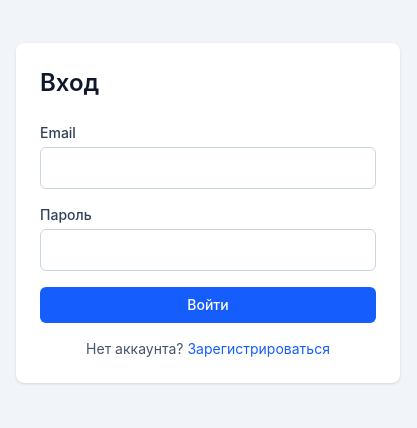
it: Frontend › 38. Frontend показывает ошибку неверного входа
This screenshot has width=417, height=428.
In the field labelled "Email": (208,168) 40,147 -> 376,189, type "user@example.com"
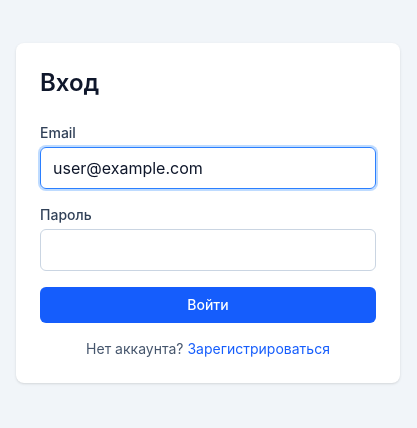
In the password field labelled "Пароль": (208,250) 40,229 -> 376,271, type "wrong-password"
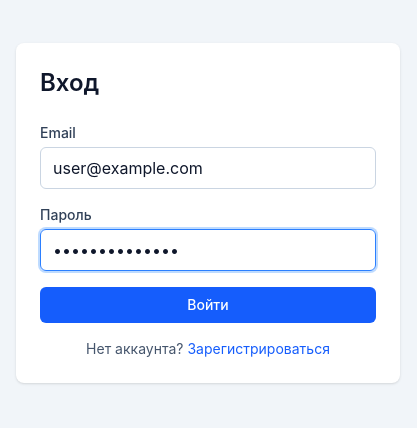
Click the button "Войти": (208,305) 40,287 -> 376,323
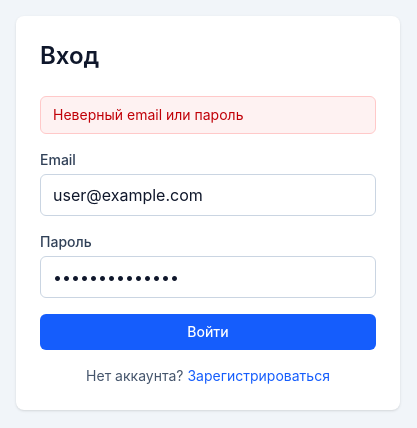
Expected: the heading "Вход" is shown, 40,41 -> 99,70
Expected: the message reads "Неверный email или пароль", 53,106 -> 244,123
